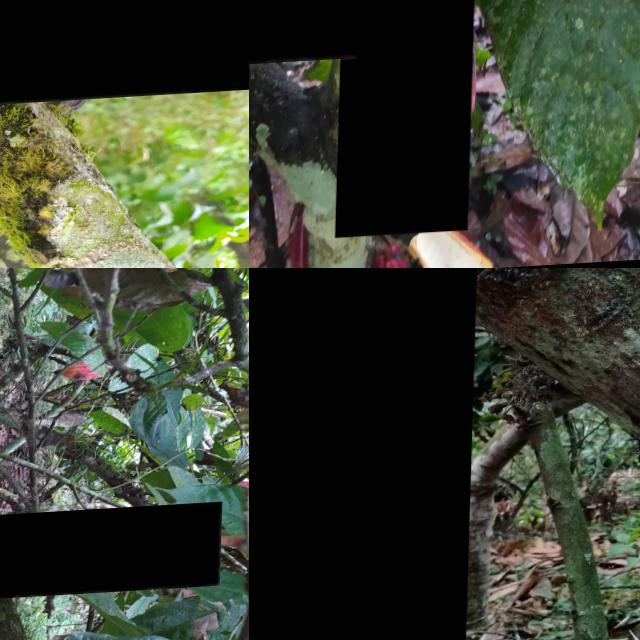Fitoftora: (0, 0, 249, 110)
Monilia: (249, 268, 479, 640), (338, 0, 480, 241), (0, 508, 224, 605), (249, 0, 365, 68)
